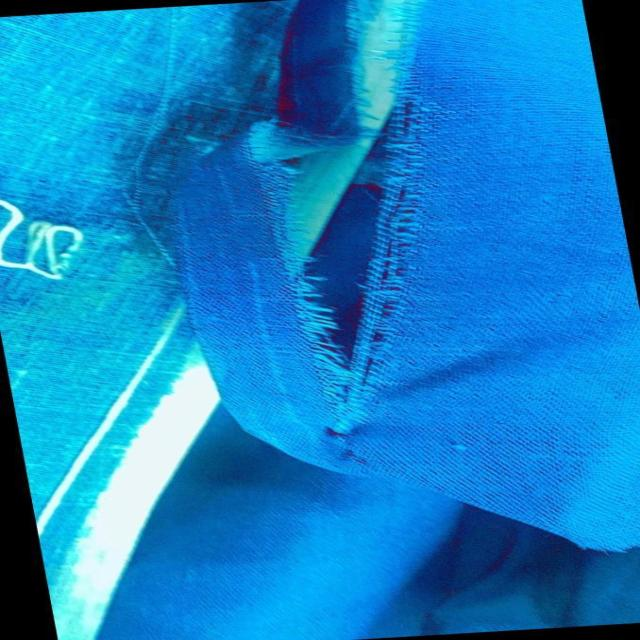cut: (232, 97, 466, 414)
